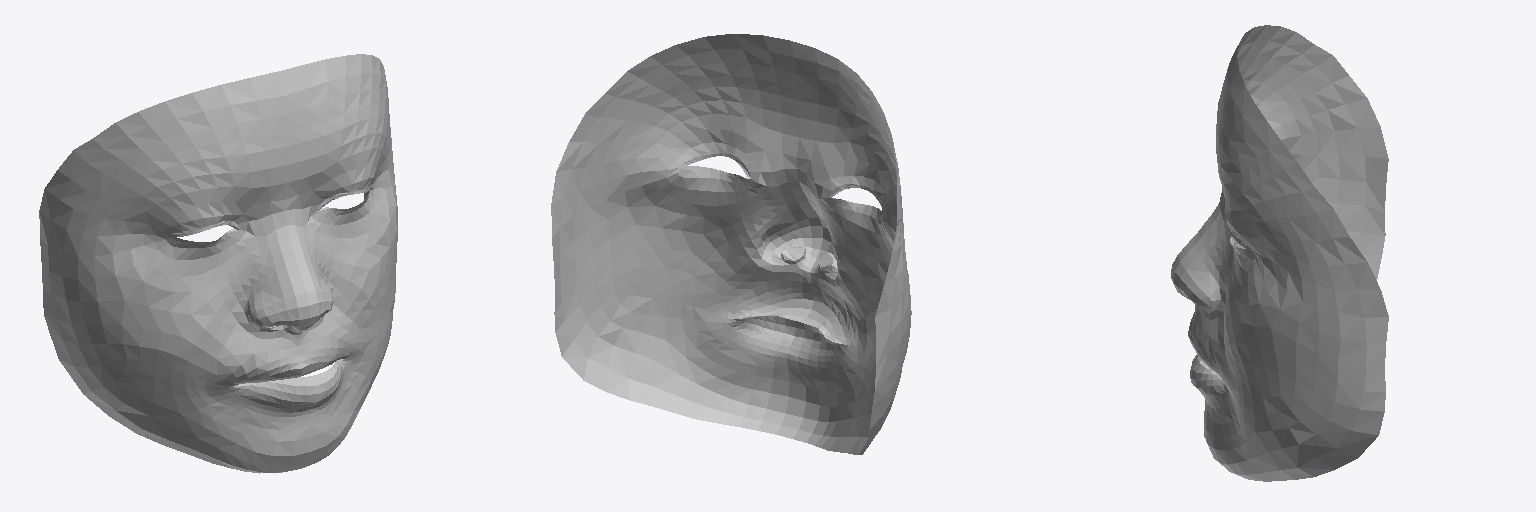
The model's file is jawLeft.obj.
3 views of the same model, side by side, from view 1: azimuth 30°, elevation 25°; view 2: azimuth 150°, elevation 25°; view 3: azimuth 270°, elevation 25° (orthographic).
Parts seen in each view (by area): view 1: default; view 2: default; view 3: default.
Boxes of the visible parts, box(x1,y1,x2,y2) form: default: box(39, 54, 397, 473); default: box(551, 34, 911, 454); default: box(1171, 25, 1388, 481).
Size of the model in its own units: 0.1624 by 0.185 by 0.0913.